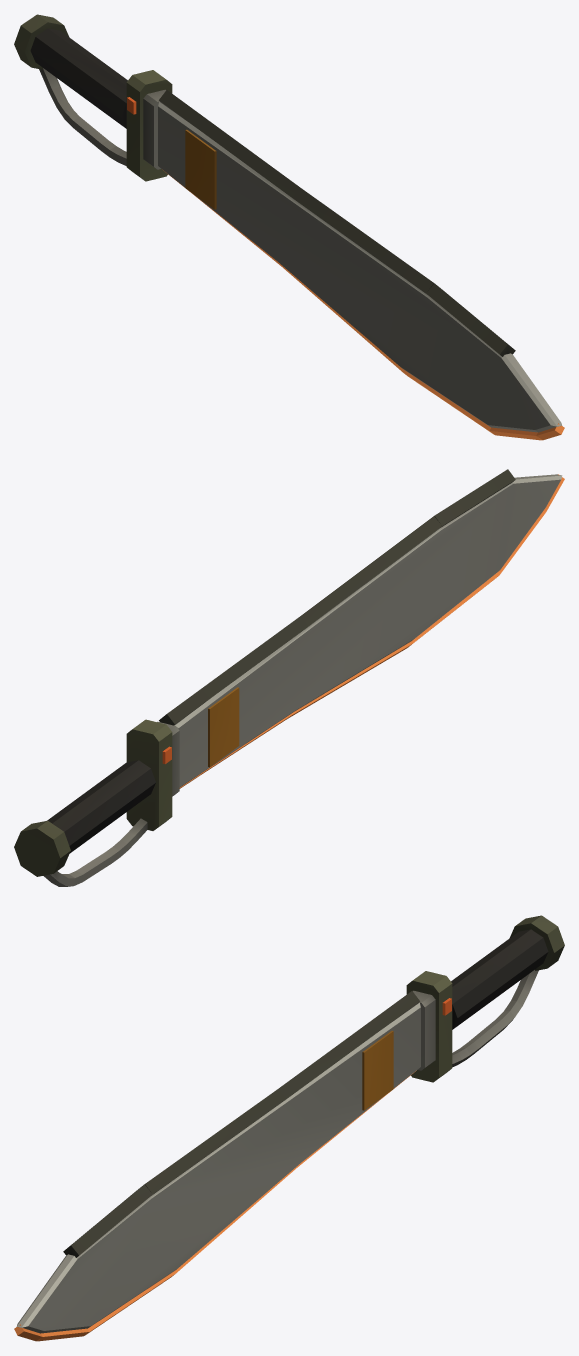
The model's file is sword-short.glb.
3 views of the same model, one above another, from view 1: azimuth 30°, elevation 25°; view 2: azimuth 150°, elevation 25°; view 3: azimuth 330°, elevation 25° (orthographic).
Parts seen in each view (by area): view 1: Blade_Mesh, Body, Blade_Glow; view 2: Blade_Mesh, Body, Blade_Glow; view 3: Blade_Mesh, Body, Blade_Glow.
Part boxes in pixels (x1,y1,x2,y2): Blade_Mesh: (158,90,562,432); Body: (14,14,172,181); Blade_Glow: (162,169,564,440); Blade_Mesh: (159,469,562,787); Body: (14,719,179,886); Blade_Glow: (179,474,564,788); Blade_Mesh: (16,991,420,1333); Body: (406,915,564,1082); Blade_Glow: (14,1070,416,1341).
Size of the model in its own units: 0.2 by 0.465 by 3.92.
